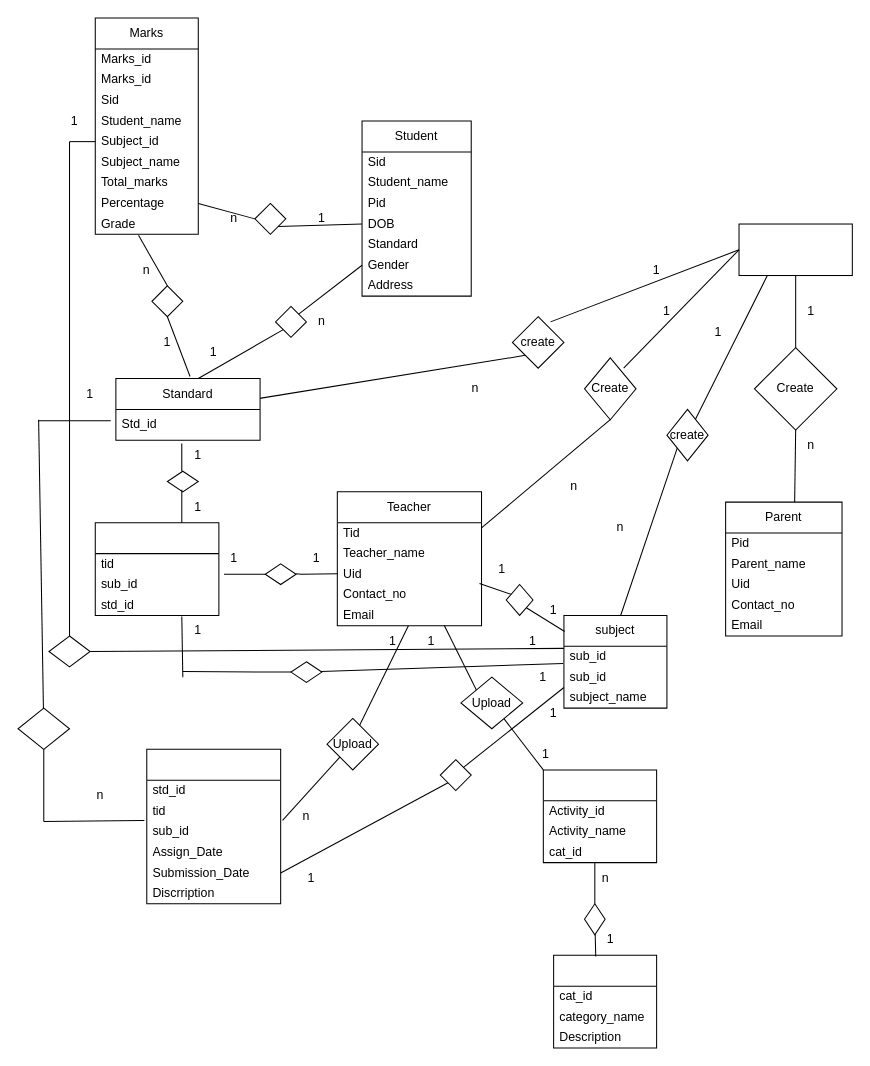
Some shapes in this 870 by 1066 pixel diagram are drawn without their labels. The shapes that lost their labels are listed below. From the top down, each one's box as (x1, y1, x2, y2) in pixels, then its label:
(738, 223, 852, 276): Admin
(94, 522, 219, 615): Class Relationship
(146, 748, 281, 904): Homework
(542, 769, 657, 863): Activities
(553, 954, 657, 1048): Activity_Category
